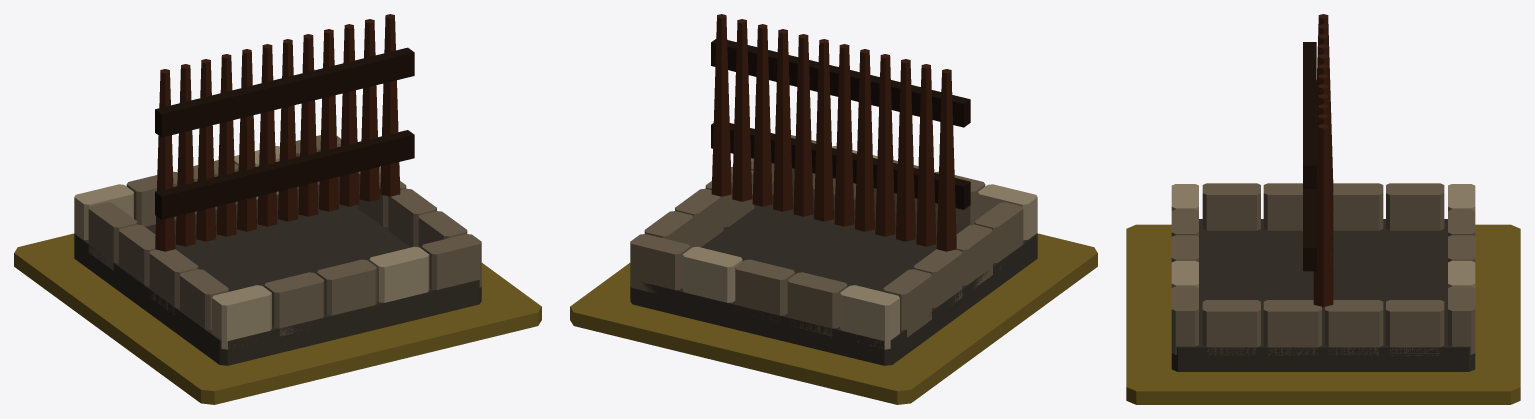
The model's file is wall_t1.glb.
The picture shows the model from 3 angles, left to right: view 1: azimuth 30°, elevation 25°; view 2: azimuth 150°, elevation 25°; view 3: azimuth 270°, elevation 25°; orthographic projection.
Visible parts, largest first — view 1: MMR | wall | T01 Architecture.001, MMR | wall | Tier 01 Ground.001; view 2: MMR | wall | T01 Architecture.001, MMR | wall | Tier 01 Ground.001; view 3: MMR | wall | T01 Architecture.001, MMR | wall | Tier 01 Ground.001.
Boxes of the visible parts, x1,y1,x2,y2 form: MMR | wall | T01 Architecture.001: [74, 14, 481, 365]; MMR | wall | Tier 01 Ground.001: [14, 233, 541, 404]; MMR | wall | T01 Architecture.001: [630, 14, 1037, 365]; MMR | wall | Tier 01 Ground.001: [570, 233, 1097, 404]; MMR | wall | T01 Architecture.001: [1171, 14, 1475, 371]; MMR | wall | Tier 01 Ground.001: [1126, 224, 1520, 404].
Size of the model in its own units: 1.3 by 0.91 by 1.3.
1 material, 1 textured.
